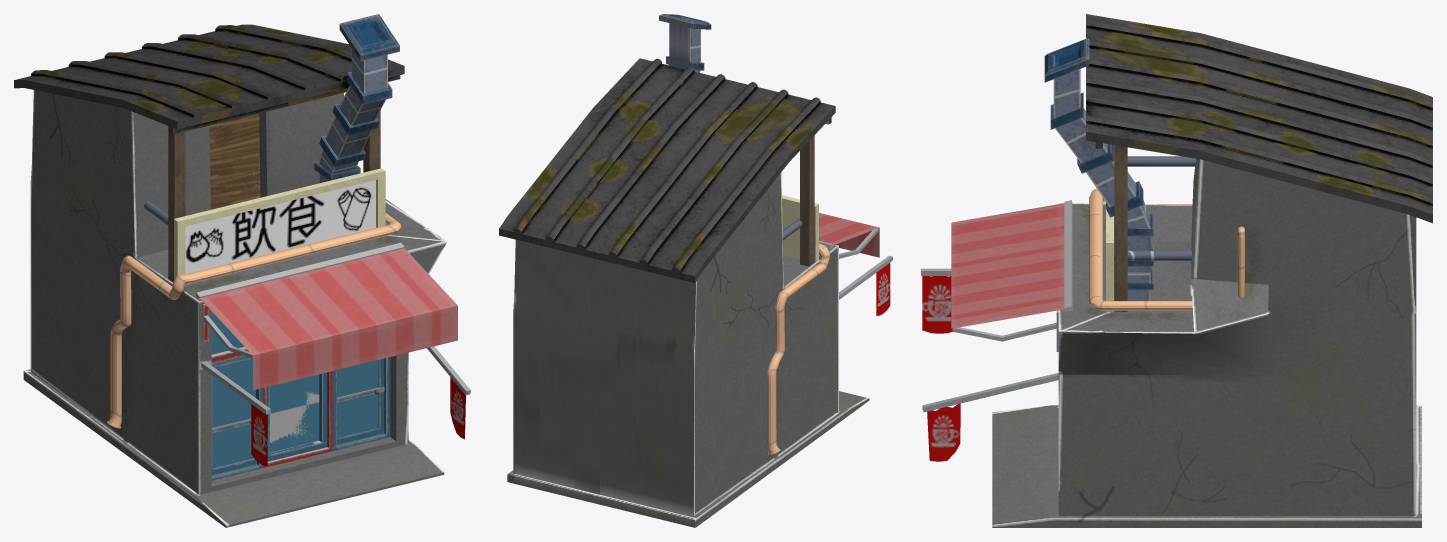
The model's file is japanese_store.glb.
3 views of the same model, side by side, from view 1: azimuth 30°, elevation 25°; view 2: azimuth 150°, elevation 25°; view 3: azimuth 270°, elevation 25° (orthographic). The views are drawn at different scales.
Parts seen in each view (by area): view 1: Building; view 2: Building; view 3: Building.
Part boxes in pixels (left/top/right/bottom): Building: left=14, top=14, right=470, bottom=527; Building: left=499, top=14, right=892, bottom=527; Building: left=921, top=14, right=1432, bottom=527.
Size of the model in its own units: 248 by 395 by 398.
Materials: 1 (1 with a texture image).
